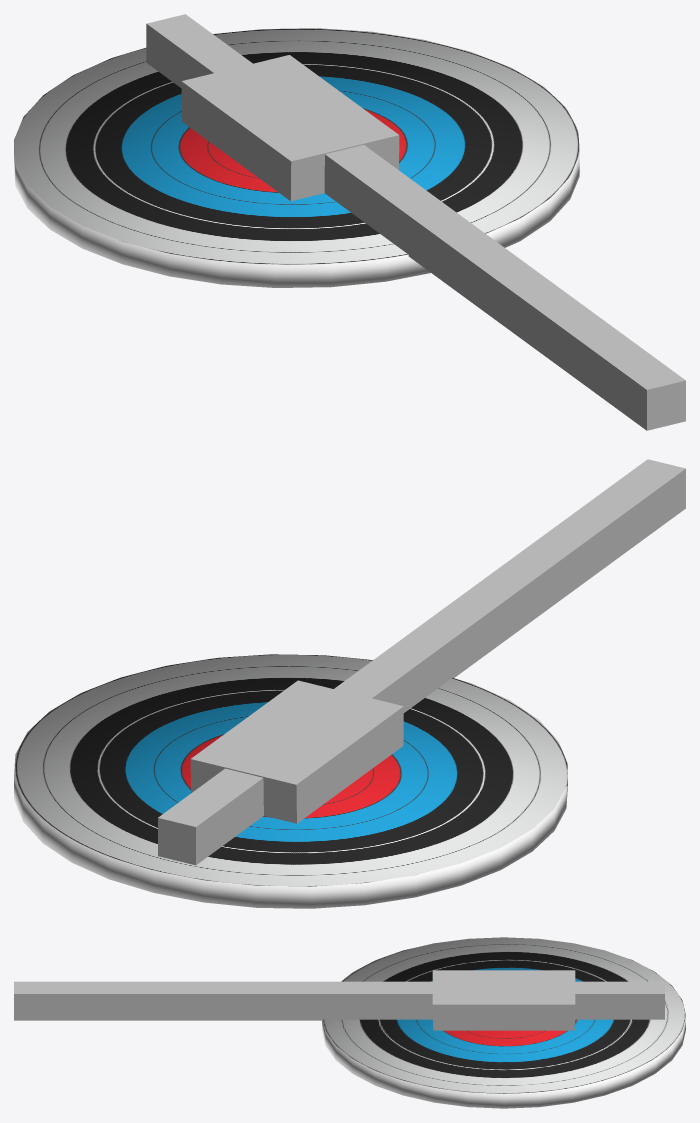
Rendered from Target.fbx.
3 renders of one model, top to bottom at view 1: azimuth 30°, elevation 25°; view 2: azimuth 150°, elevation 25°; view 3: azimuth 270°, elevation 25°, orthographic. The views are drawn at different scales.
Parts seen in each view (by area): view 1: Cube.001; view 2: Cube.001; view 3: Cube.001.
Boxes of the visible parts, x1=… form: Cube.001: x1=14, y1=14, x2=685, y2=430; Cube.001: x1=14, y1=459, x2=685, y2=908; Cube.001: x1=14, y1=937, x2=685, y2=1108.
Size of the model in its own units: 200 by 24.38 by 363.
